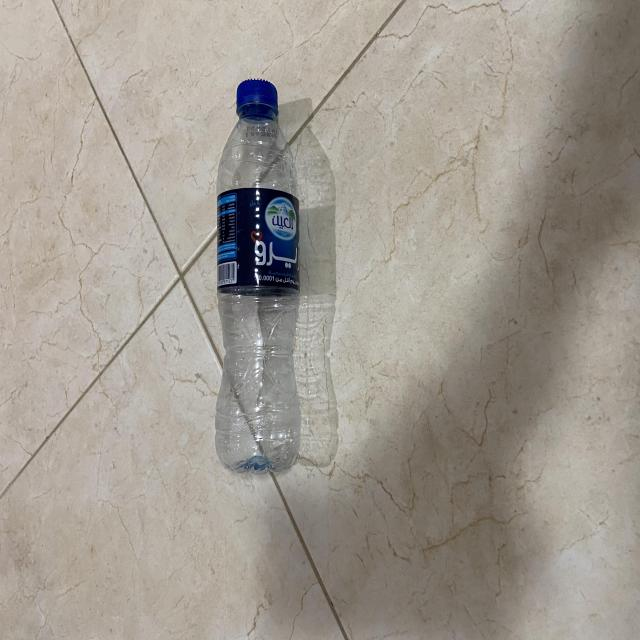plastic: (209, 74, 308, 474)
